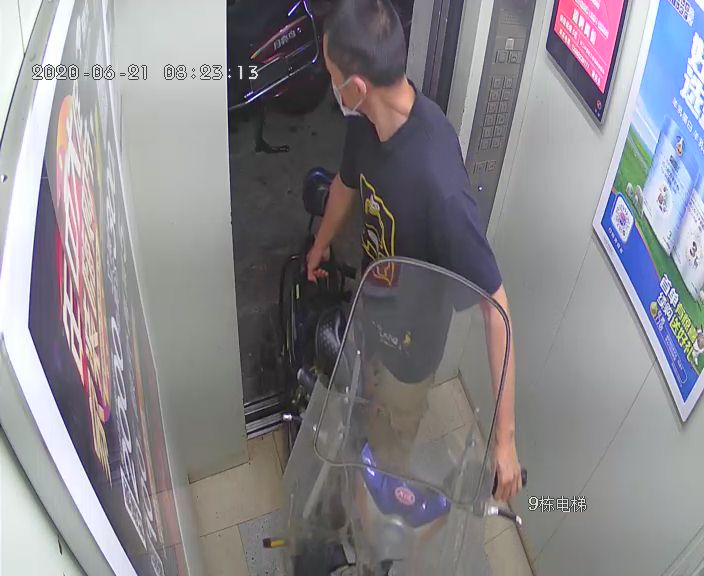Electric-bicycle: (275, 169, 522, 573)
